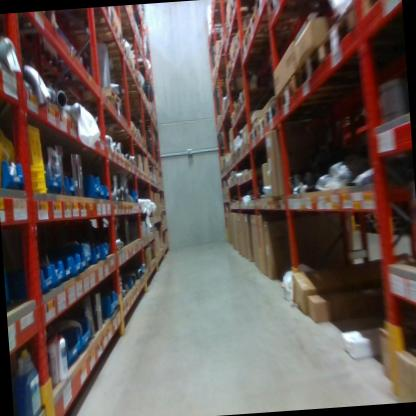pallet: (277, 58, 385, 112), (296, 39, 390, 91), (320, 6, 394, 70), (53, 10, 127, 54), (238, 7, 304, 54), (265, 97, 346, 132), (267, 0, 345, 31), (238, 29, 295, 56), (72, 95, 122, 122), (225, 57, 281, 79), (226, 42, 278, 61), (236, 84, 274, 109), (357, 0, 402, 21), (69, 88, 121, 106), (247, 0, 296, 11), (227, 27, 250, 50), (256, 111, 269, 139), (246, 124, 260, 147), (233, 102, 243, 118)
